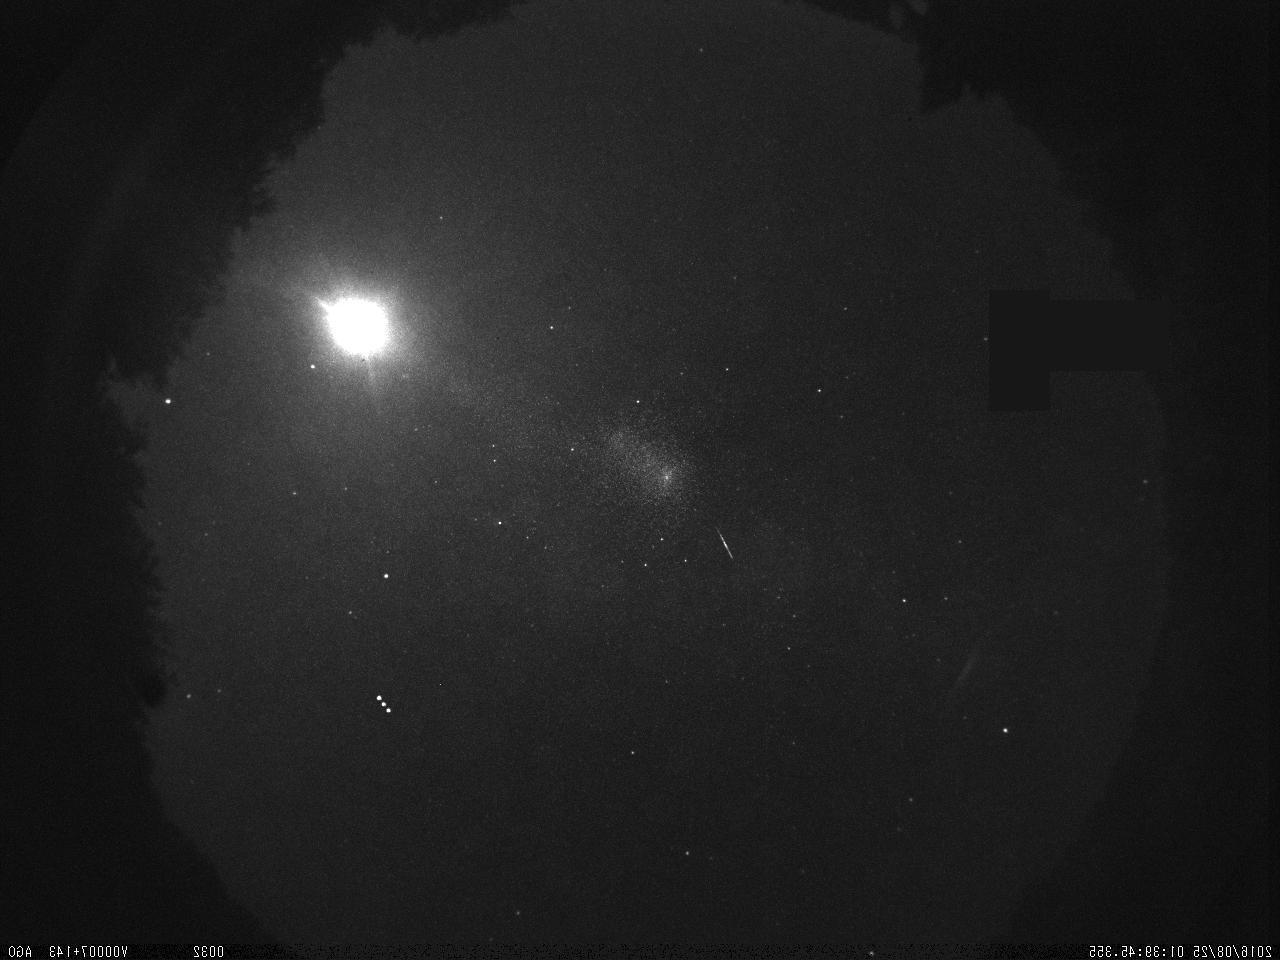meteor: (703, 522, 741, 565)
satelite: (369, 685, 399, 721)
